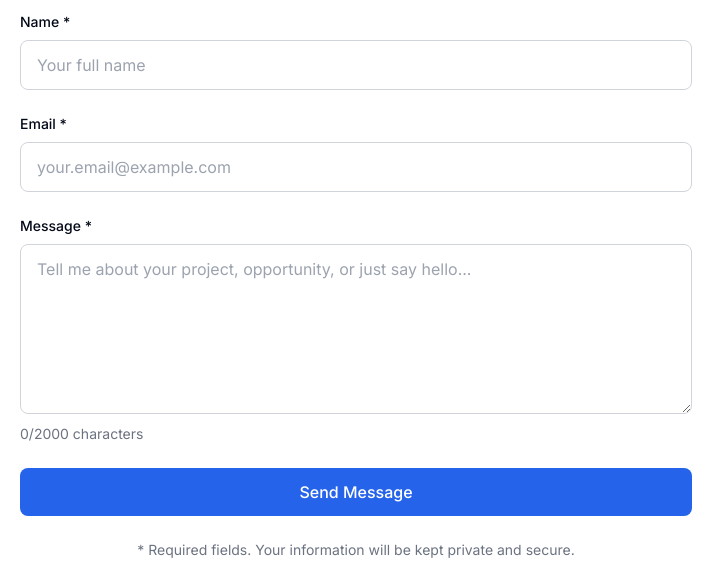
Test: ContactForm › shows character count for message field
This screenshot has width=713, height=575.
Type "Hello world" into the text box labelled "Message *" at (356, 329), box x1=20 y1=244 x2=692 y2=414
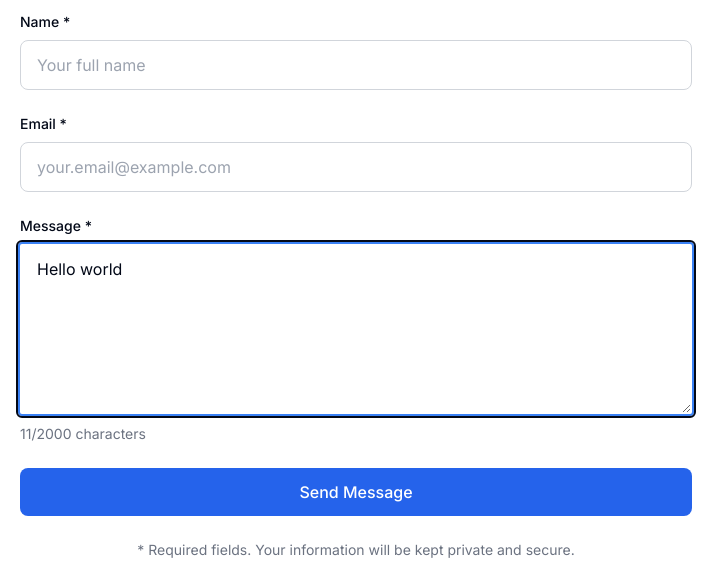
Expected: the text "11/2000 characters" is shown, x1=20 y1=425 x2=146 y2=442
